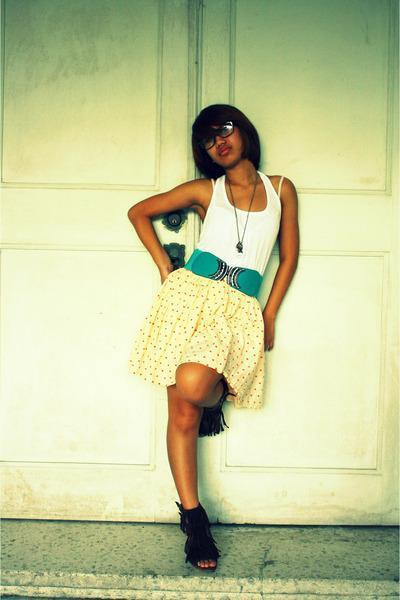shirt: (198, 180, 280, 275)
shoe: (156, 405, 228, 578)
skirt: (128, 252, 273, 410)
